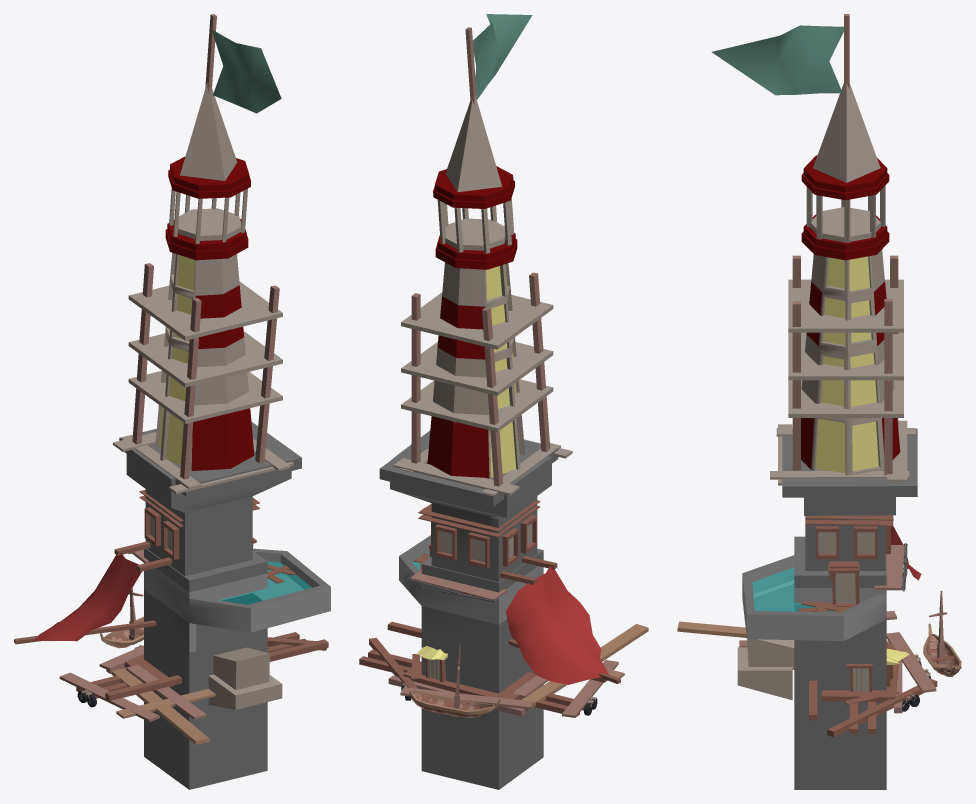
Rendered from vuurtoren.fbx.
3 renders of one model, left to right at view 1: azimuth 30°, elevation 25°; view 2: azimuth 150°, elevation 25°; view 3: azimuth 270°, elevation 25°, orthographic. The views are drawn at different scales.
Visible parts, largest first — view 1: vuurtoren; view 2: vuurtoren; view 3: vuurtoren.
Boxes of the visible parts, x1,y1,x2,y2 form: vuurtoren: [14, 14, 330, 789]; vuurtoren: [359, 14, 648, 789]; vuurtoren: [677, 14, 961, 789].
Bounding box in the file's own units: 55.74 × 140 × 47.31.
